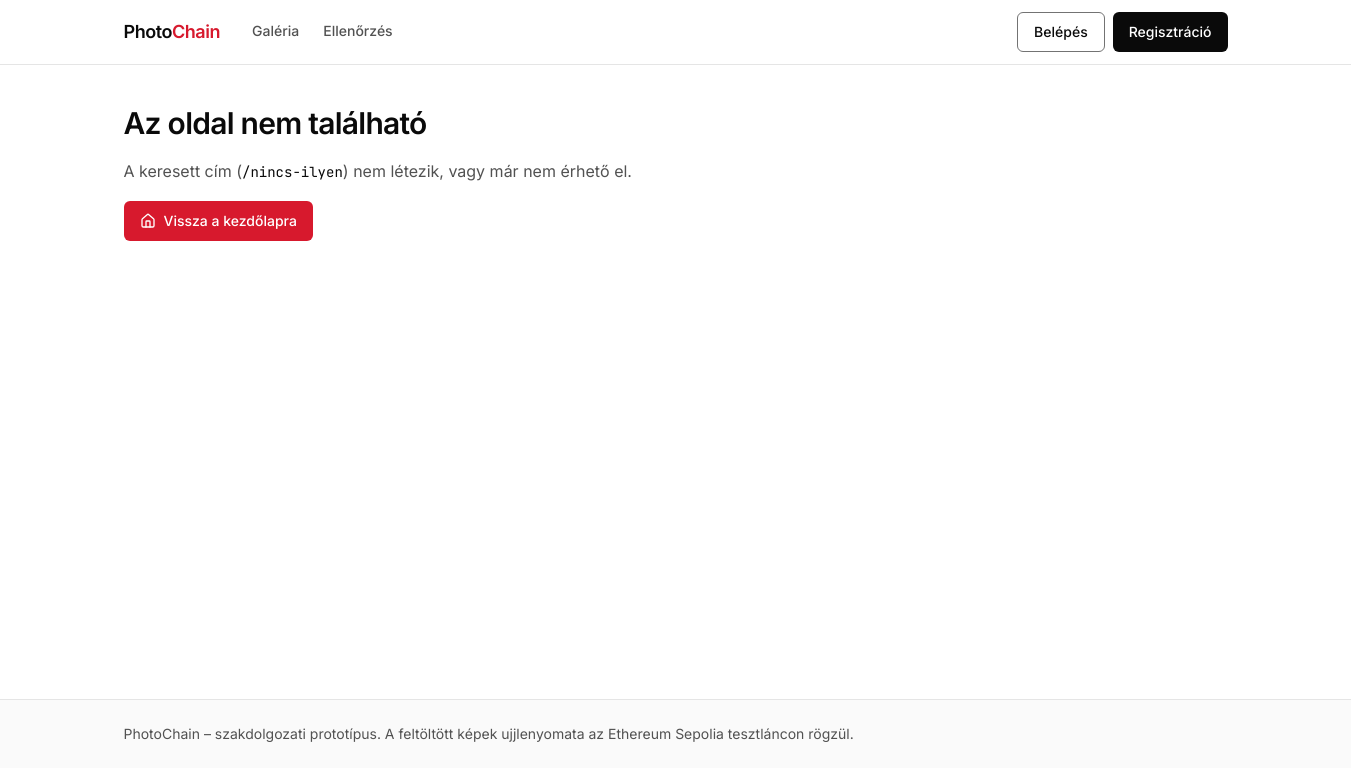
Test: a fejléc fiókrésze › a Belépés hivatkozás megjegyzi az aktuális oldalt (belépés után oda tér vissza)
expect the heading "Az oldal nem található" is shown: met, box [124,105,427,141]
Click the link "Belépés".
click(1061, 32)  # box [1017,12,1105,52]
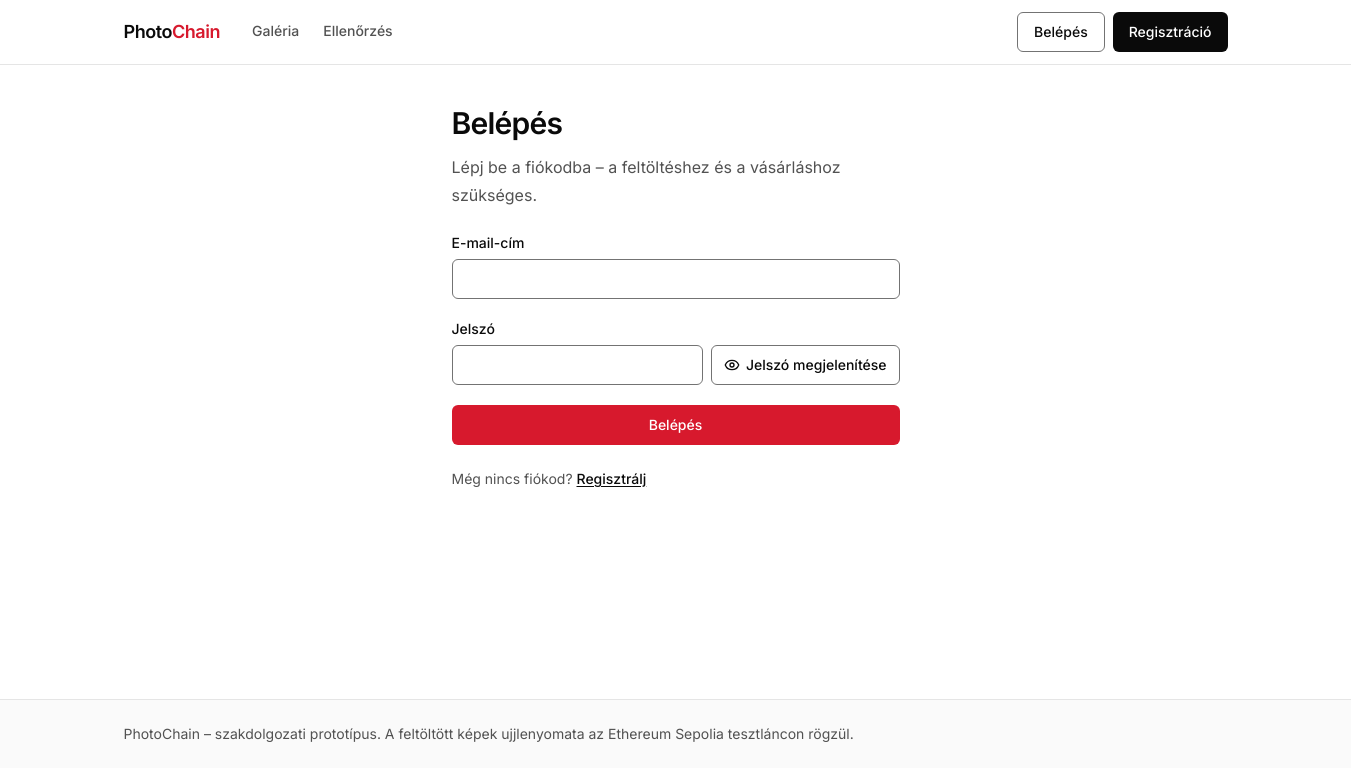
expect the heading "Belépés" is shown: met, box [452,105,562,141]
